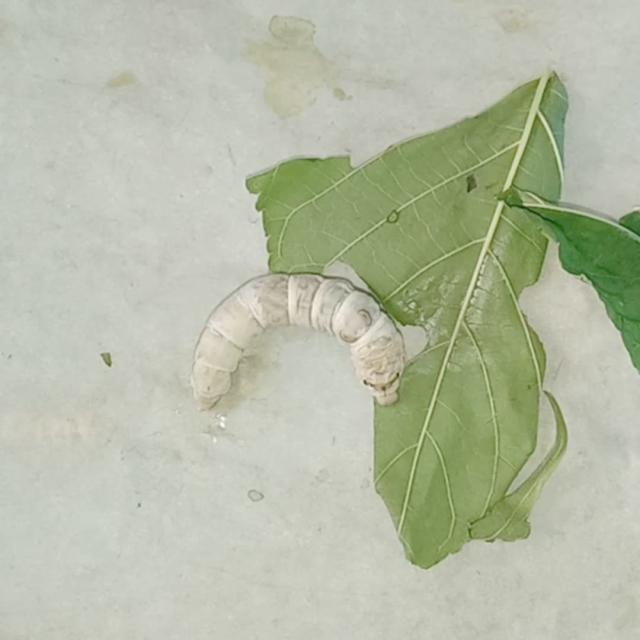Grasserie: (184, 256, 422, 418)
